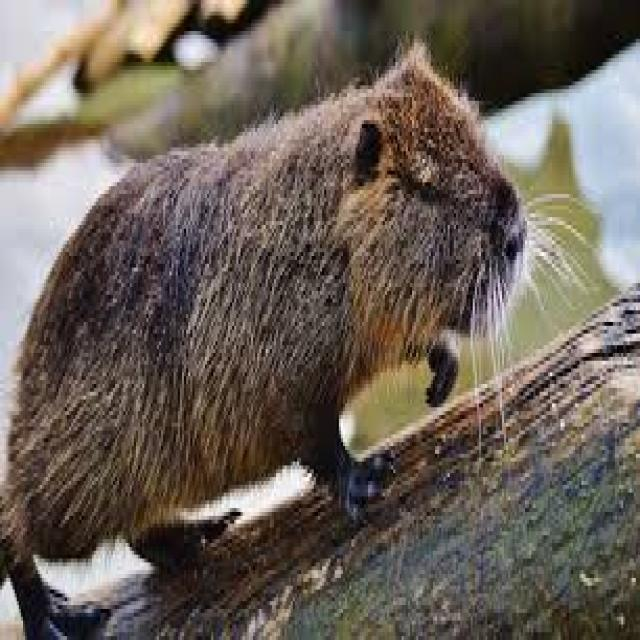rat: (0, 35, 590, 636)
